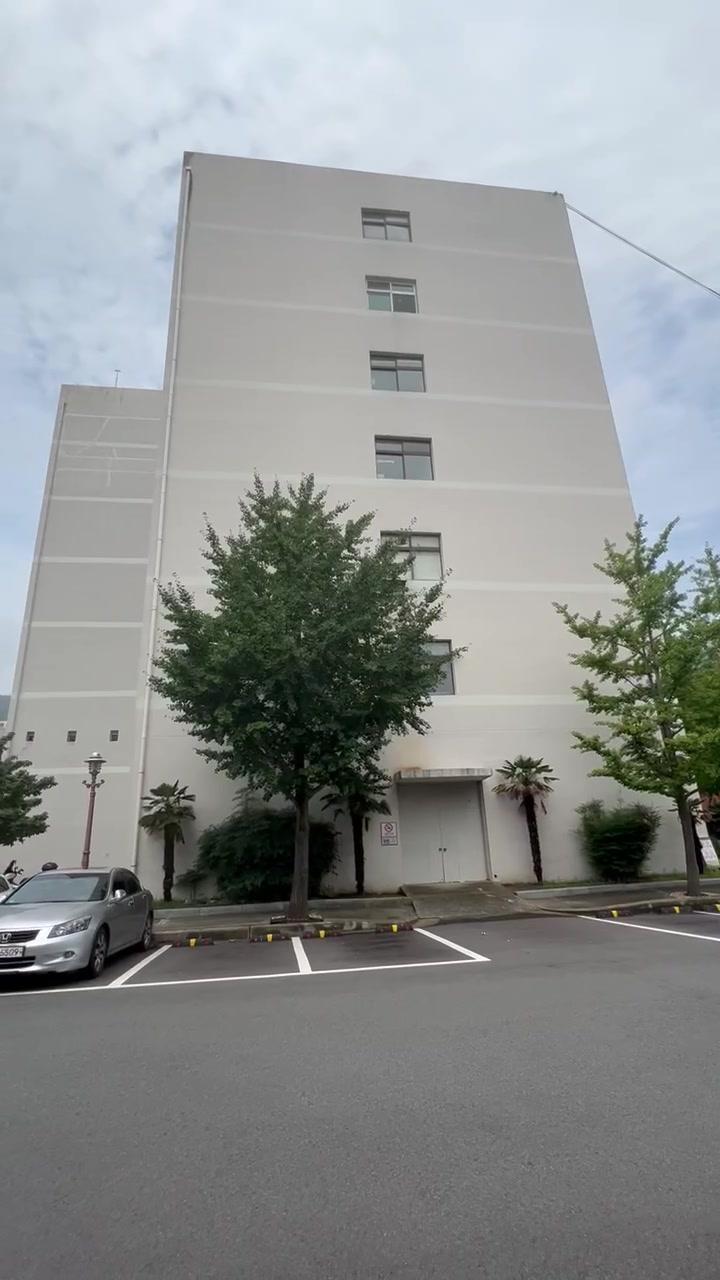building: (186, 156, 598, 500)
